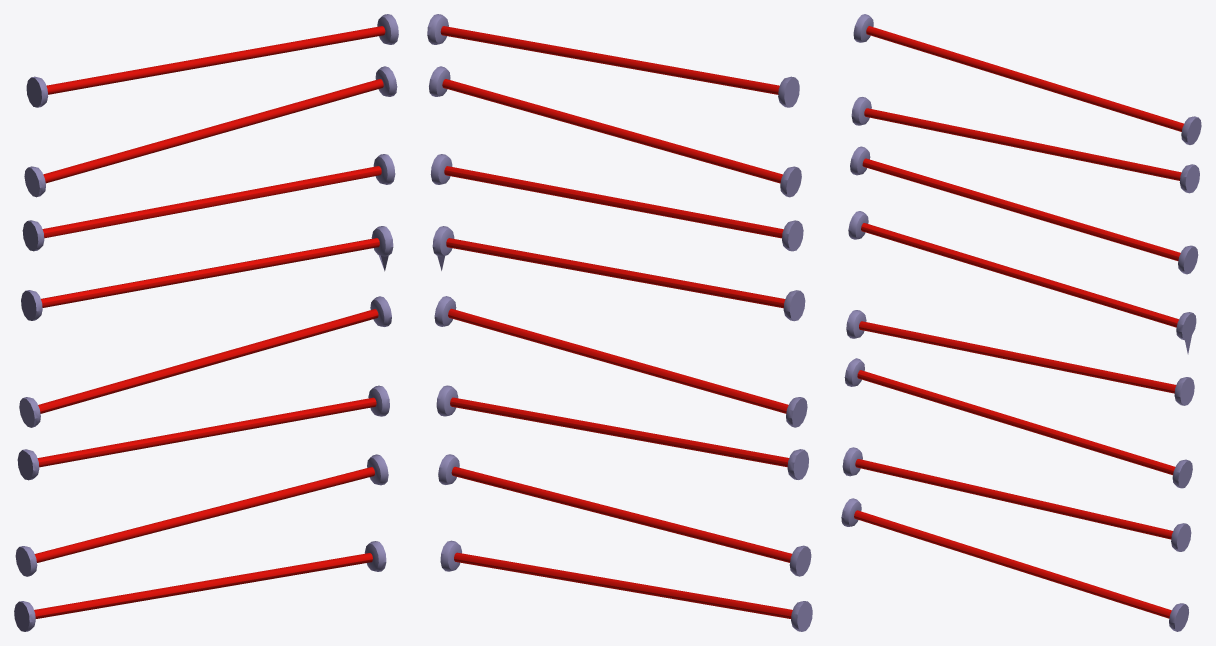
Rendered from lasers.fbx.
3 views of the same model, side by side, from view 1: azimuth 30°, elevation 25°; view 2: azimuth 150°, elevation 25°; view 3: azimuth 330°, elevation 25° (orthographic). The views are drawn at different scales.
Visible parts, largest first — view 1: lasers; view 2: lasers; view 3: lasers.
Part boxes in pixels (left/top/right/bottom): lasers: left=14, top=14, right=398, bottom=631; lasers: left=427, top=14, right=812, bottom=631; lasers: left=841, top=14, right=1201, bottom=631.
Size of the model in its own units: 579 by 857 by 43.17.
